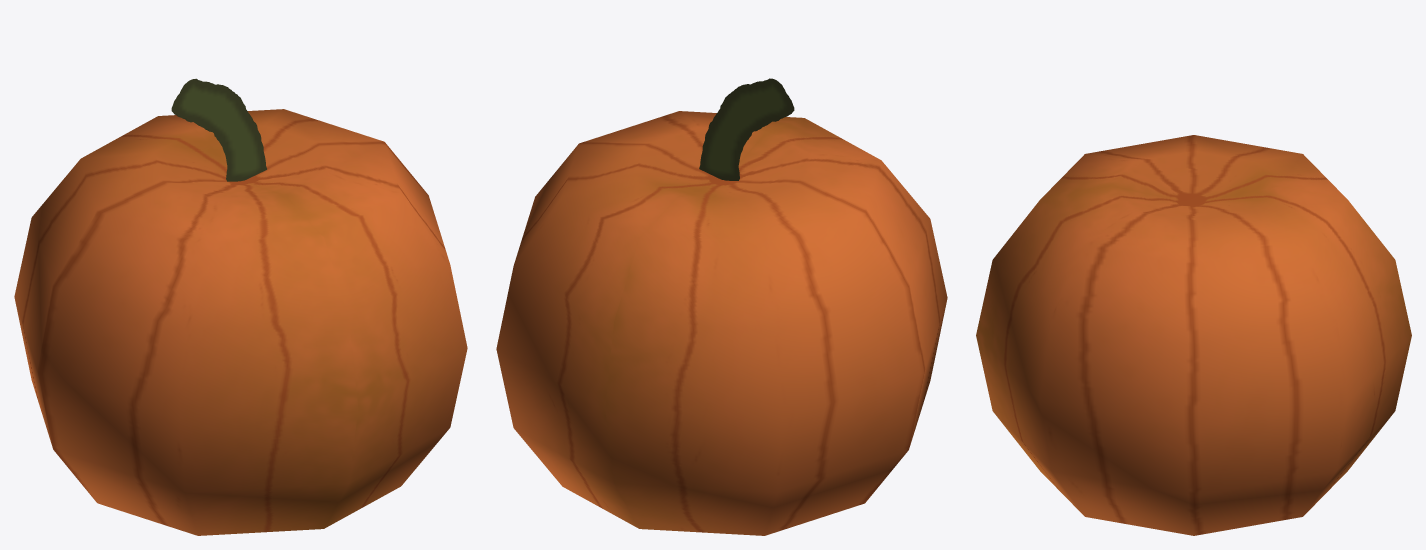
Rendered from Pumpkin.fbx.
3 renders of one model, left to right at view 1: azimuth 30°, elevation 25°; view 2: azimuth 150°, elevation 25°; view 3: azimuth 270°, elevation 25°, orthographic. The views are drawn at different scales.
Visible parts, largest first — view 1: Pumpkin; view 2: Pumpkin; view 3: Pumpkin.
Boxes of the visible parts, <box> form: Pumpkin: <box>14,78,467,535</box>; Pumpkin: <box>496,78,947,535</box>; Pumpkin: <box>976,135,1411,535</box>.
Size of the model in its own units: 51.24 by 54.96 by 51.24.
